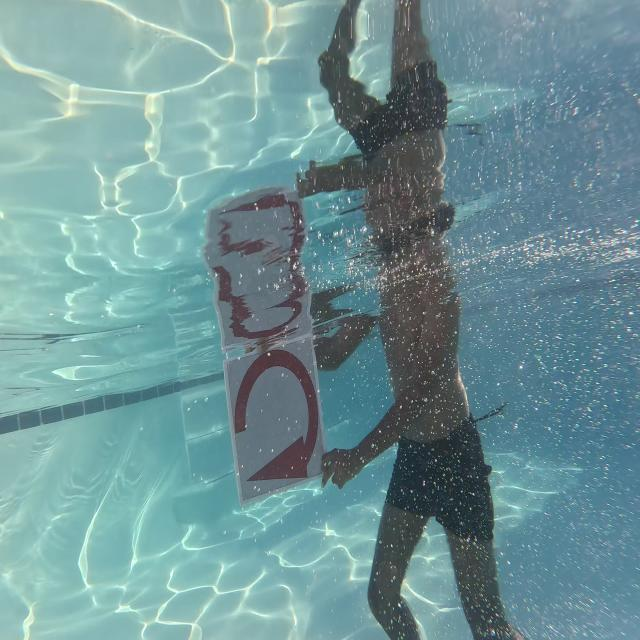red_side: (221, 341, 332, 487)
